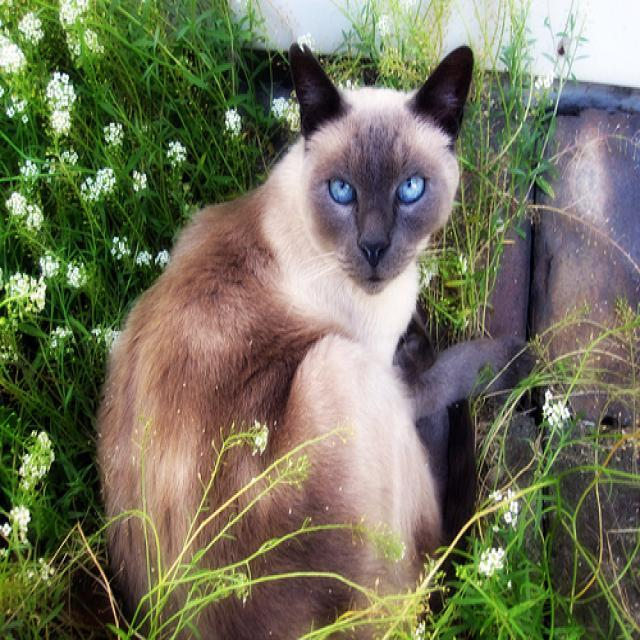Siamese: (286, 33, 475, 295)
